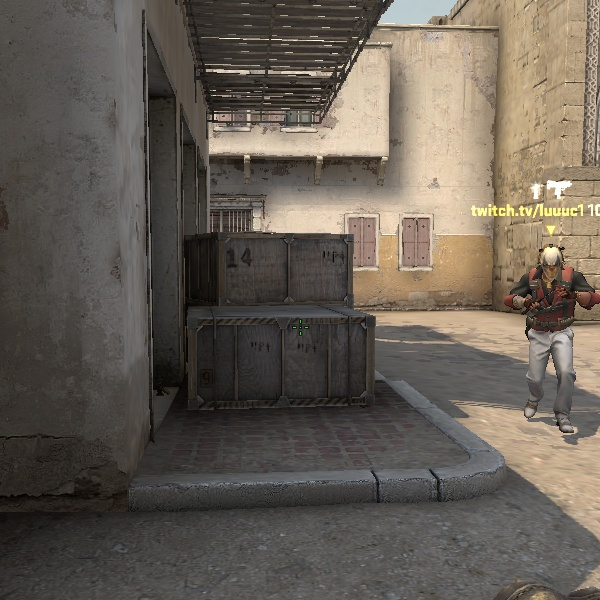t_body: (489, 233, 600, 443)
t_head: (528, 240, 573, 287)
